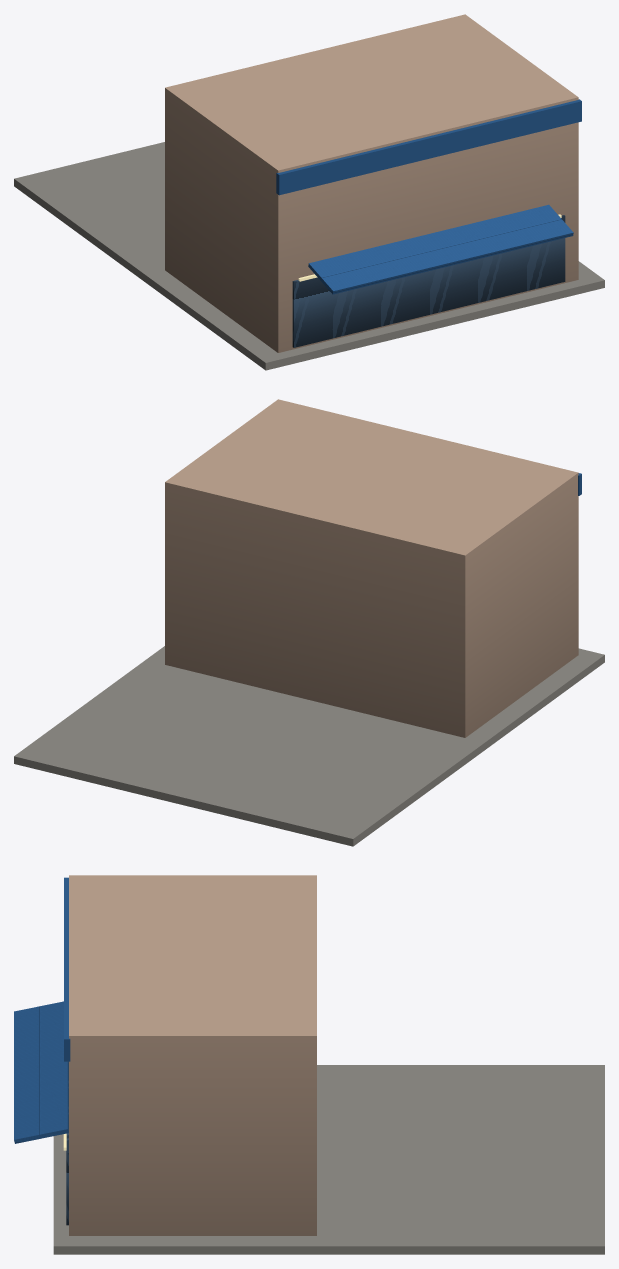
Rendered from loja_3.glb.
3 views of the same model, one above another, from view 1: azimuth 30°, elevation 25°; view 2: azimuth 150°, elevation 25°; view 3: azimuth 270°, elevation 25° (orthographic). The views are drawn at different scales.
Visible parts, largest first — view 1: loja_3_liso, loja_3; view 2: loja_3_liso; view 3: loja_3_liso, loja_3.
Boxes of the visible parts, x1,y1,x2,y2 form: loja_3_liso: (14,14,604,370); loja_3: (292,204,573,347); loja_3_liso: (14,399,604,846); loja_3_liso: (53,875,604,1254); loja_3: (14,1001,68,1225).
Bounding box in the file's own units: 14 × 7.5 × 19.29.
4 materials, 2 textured.
